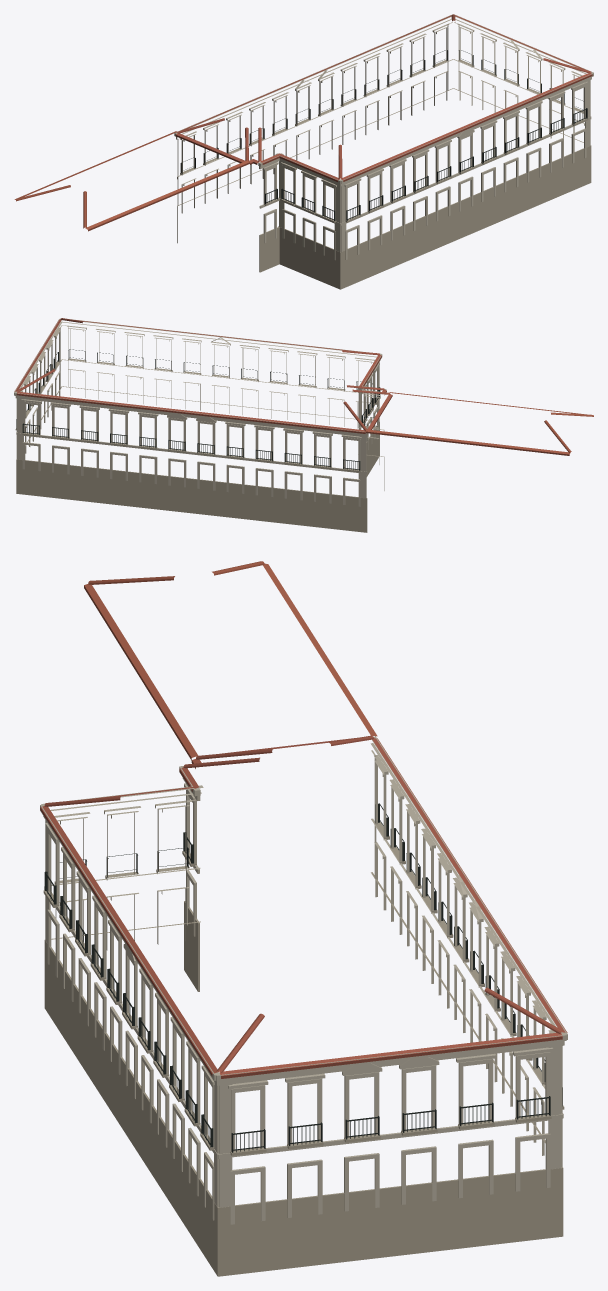
The picture shows the model from 3 angles, top to bottom: view 1: azimuth 30°, elevation 25°; view 2: azimuth 150°, elevation 25°; view 3: azimuth 270°, elevation 25°; orthographic projection. The views are drawn at different scales.
Parts seen in each view (by area): view 1: detail; view 2: detail; view 3: detail.
Part boxes in pixels (x1,y1,x2,y2): detail: (14, 14, 593, 289); detail: (14, 318, 593, 532); detail: (40, 561, 567, 1276).
Size of the model in its own units: 55.33 by 11.81 by 24.18.
